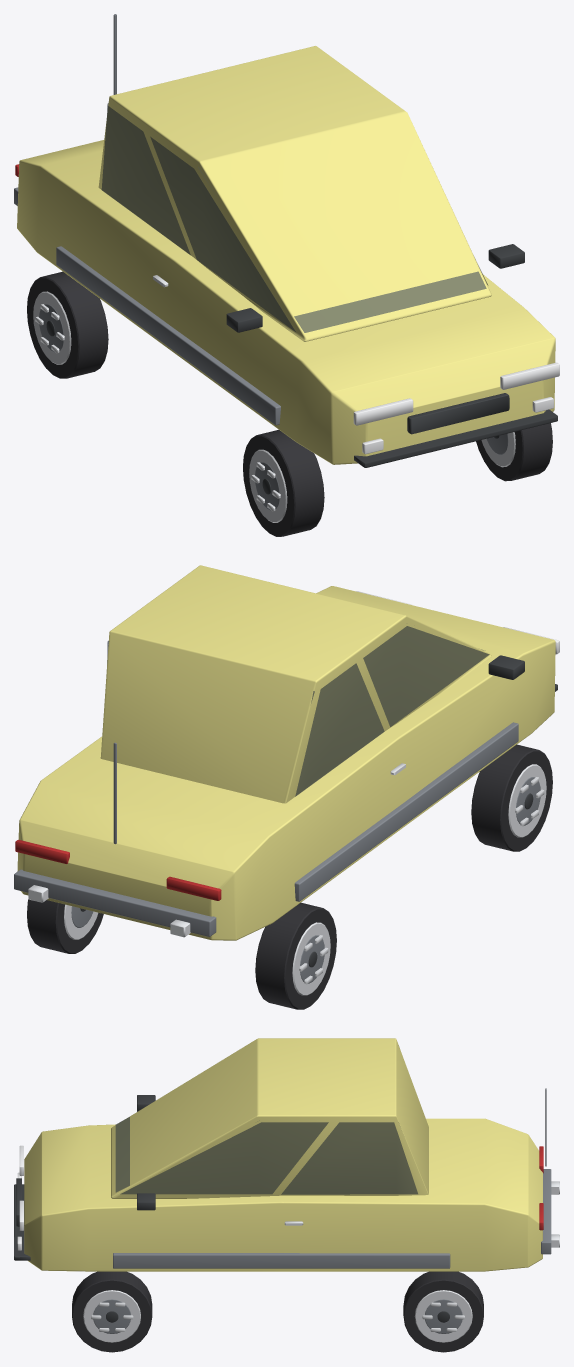
The model's file is neon-express.glb.
3 views of the same model, one above another, from view 1: azimuth 30°, elevation 25°; view 2: azimuth 150°, elevation 25°; view 3: azimuth 270°, elevation 25° (orthographic). The views are drawn at different scales.
Visible parts, largest first — view 1: paint, glass, tyre, accent, trim, rim, head; view 2: paint, glass, tyre, accent, rim, tail, trim; view 3: paint, glass, accent, tyre, rim, trim, head.
Boxes of the visible parts, x1=… form: paint: x1=17, y1=46, x2=555, y2=464; glass: x1=101, y1=103, x2=487, y2=332; tyre: x1=27, y1=271, x2=552, y2=536; accent: x1=14, y1=14, x2=508, y2=510; trim: x1=46, y1=244, x2=557, y2=494; rim: x1=33, y1=275, x2=515, y2=522; head: x1=353, y1=362, x2=559, y2=454; paint: x1=17, y1=565, x2=555, y2=940; glass: x1=107, y1=626, x2=489, y2=796; tyre: x1=27, y1=744, x2=552, y2=1009; accent: x1=14, y1=722, x2=540, y2=983; rim: x1=28, y1=763, x2=546, y2=995; tail: x1=15, y1=839, x2=221, y2=900; trim: x1=80, y1=655, x2=557, y2=967; paint: x1=24, y1=1038, x2=542, y2=1271; glass: x1=115, y1=1117, x2=417, y2=1194; accent: x1=93, y1=1088, x2=551, y2=1333; tyre: x1=72, y1=1271, x2=483, y2=1352; rim: x1=83, y1=1181, x2=559, y2=1342; trim: x1=14, y1=1095, x2=449, y2=1322; head: x1=17, y1=1145, x2=23, y2=1250.
Size of the model in its own units: 2.47 by 2.43 by 5.28.
